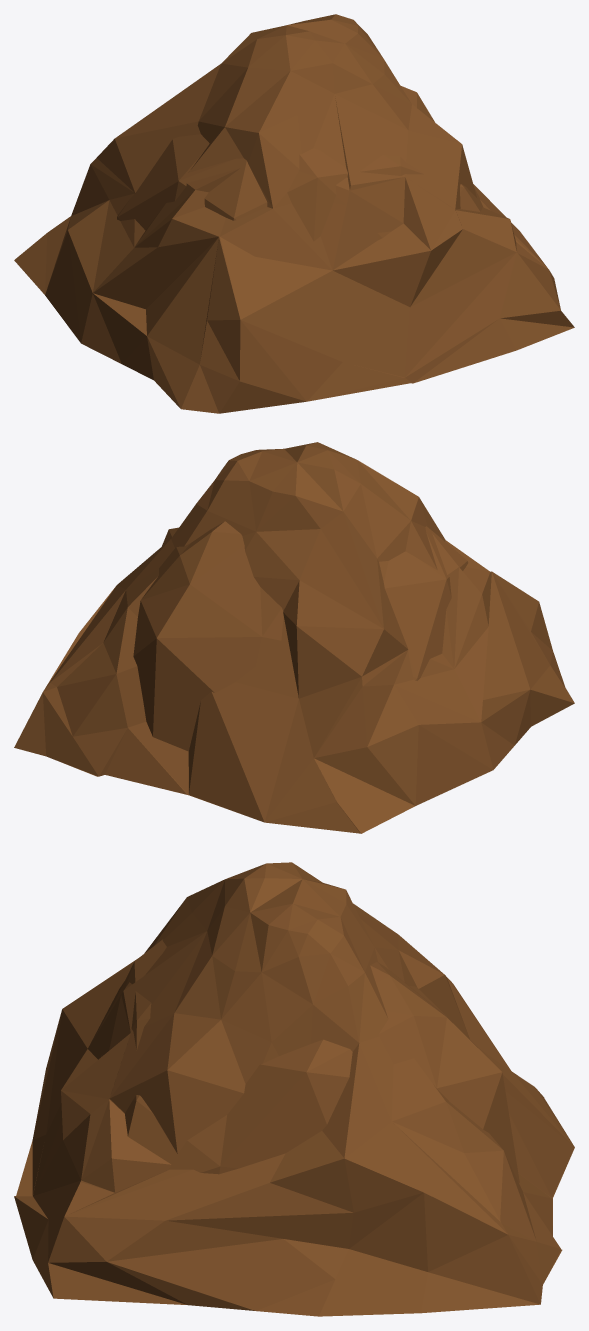
File: mesa.glb
3 views of the same model, one above another, from view 1: azimuth 30°, elevation 25°; view 2: azimuth 150°, elevation 25°; view 3: azimuth 270°, elevation 25° (orthographic). The views are drawn at different scales.
Visible parts, largest first — view 1: Cube_0, Cube; view 2: Cube_0, Cube; view 3: Cube_0, Cube.
Boxes of the visible parts, bbox=[...] form: Cube_0: bbox=[14, 14, 574, 413]; Cube: bbox=[117, 86, 483, 241]; Cube_0: bbox=[14, 442, 574, 833]; Cube: bbox=[133, 521, 468, 751]; Cube_0: bbox=[14, 862, 574, 1316]; Cube: bbox=[100, 939, 519, 1182].
Bounding box in the file's own units: 2.18 × 1.36 × 2.16.
1 material, 1 textured.
